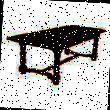Mesa: (3, 21, 107, 88)
